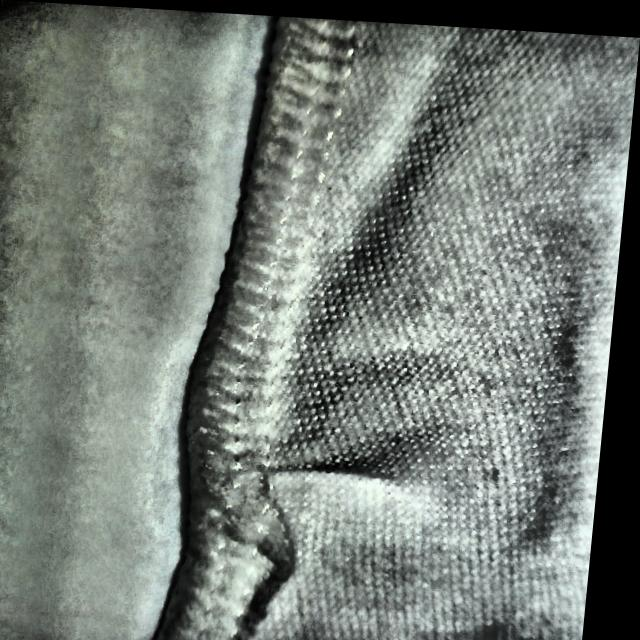seam: (182, 382, 380, 632)
